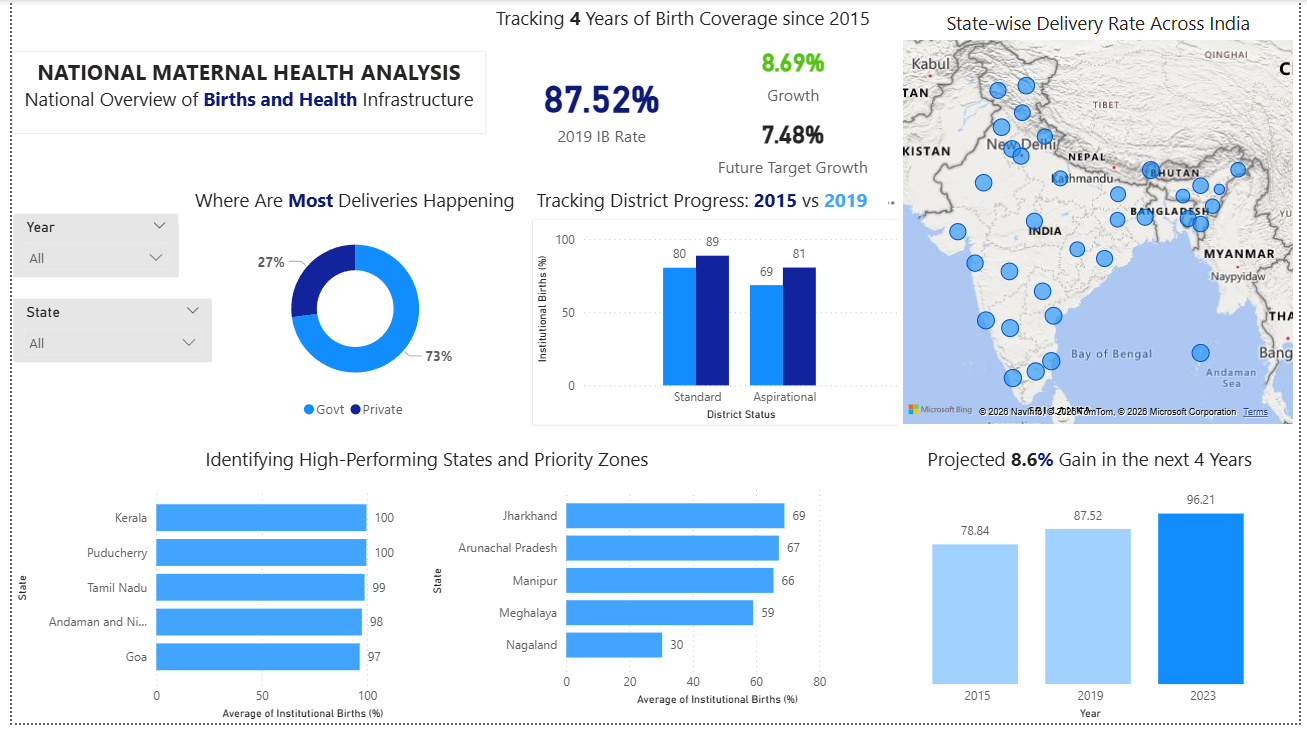

What the dashboard file says about the page in this screenshot:
{"tool":"powerbi","page":{"name":"Summary Report","canvas":[1280,720],"ordinal":0},"visuals":[{"type":"card","title":"Current Birth Rate","fields":{"Values":["All Measures.2019 IB"]},"box":[500.9,60.4,171.5,91.9],"z":0},{"type":"slicer","fields":{"Values":["Year.Year"]},"box":[1.4,212.7,164.7,63.1],"z":1000},{"type":"card","title":"Growth","fields":{"Values":["All Measures.Growth"]},"box":[688.9,35.7,177,72.7],"z":2000},{"type":"card","title":"Future Target Growth","fields":{"Values":["All Measures.Target"]},"box":[694.3,107,166,74.1],"z":3000},{"type":"donutChart","fields":{"Y":["Avg(NFHS.Institutional Births In Public Facility (%))","All Measures.Private IB"]},"box":[199,218.2,285.4,208.6],"z":4000},{"type":"clusteredColumnChart","title":"Average of Institutional Births (%) by District Status and Year","fields":{"Category":["NFHS.District Status"],"Y":["Avg(NFHS.Institutional Births (%))"],"Series":["NFHS.Year"]},"box":[517.3,218.2,369.1,205.8],"z":5000},{"type":"clusteredColumnChart","fields":{"Category":["Year Wise IB Rate.Year"],"Y":["Sum(Year Wise IB Rate.IB Rate)"]},"box":[848,474.8,432.2,245.6],"z":6000},{"type":"clusteredBarChart","fields":{"Category":["RHS.State"],"Y":["Avg(NFHS.Institutional Births (%))"]},"box":[0,474.8,450.1,245.6],"z":7000},{"type":"barChart","fields":{"Category":["RHS.State"],"Y":["Avg(NFHS.Institutional Births (%))"]},"box":[413,474.8,451.5,231.9],"z":8000},{"type":"slicer","fields":{"Values":["RHS.State"]},"box":[1.4,297.8,197.6,63.1],"z":9000},{"type":"map","title":"State‑wise Delivery Rate Across India","fields":{"Category":["RHS.State"],"Size":["Avg(NFHS.Institutional Births (%))"]},"box":[882.3,9.6,397.9,417.2],"z":10000},{"type":"textbox","box":[115.3,439.1,594.2,49.4],"z":11000},{"type":"textbox","box":[864.5,439.1,415.8,38.4],"z":12000},{"type":"textbox","box":[166,181.1,351.3,39.8],"z":13000},{"type":"textbox","box":[500.9,181.1,370.5,37],"z":14000},{"type":"textbox","box":[472,0,392.5,35.7],"z":15000},{"type":"textbox","box":[0,50.8,472,82.3],"z":16000}]}

Visuals, with their boxes in screenshot pixels (x1, y1, x2, y2), scaled from the page's 1280x720 canvas onto the 1307x731 screenshot:
"Current Birth Rate" card: l=511, t=61, r=687, b=155
slicer - Year.Year: l=1, t=216, r=170, b=280
"Growth" card: l=703, t=36, r=884, b=110
"Future Target Growth" card: l=709, t=109, r=878, b=184
donutChart - Avg(NFHS.Institutional Births In Public Facility (%)) x All Measures.Private IB: l=203, t=222, r=495, b=433
"Average of Institutional Births (%) by District Status and Year" clusteredColumnChart: l=528, t=222, r=905, b=430
clusteredColumnChart - Year Wise IB Rate.Year x Sum(Year Wise IB Rate.IB Rate): l=866, t=482, r=1306, b=730
clusteredBarChart - RHS.State x Avg(NFHS.Institutional Births (%)): l=0, t=482, r=460, b=730
barChart - RHS.State x Avg(NFHS.Institutional Births (%)): l=422, t=482, r=883, b=717
slicer - RHS.State: l=1, t=302, r=203, b=366
"State‑wise Delivery Rate Across India" map: l=901, t=10, r=1306, b=433
textbox: l=118, t=446, r=724, b=496
textbox: l=883, t=446, r=1306, b=485
textbox: l=170, t=184, r=528, b=224
textbox: l=511, t=184, r=890, b=221
textbox: l=482, t=0, r=883, b=36
textbox: l=0, t=52, r=482, b=135
